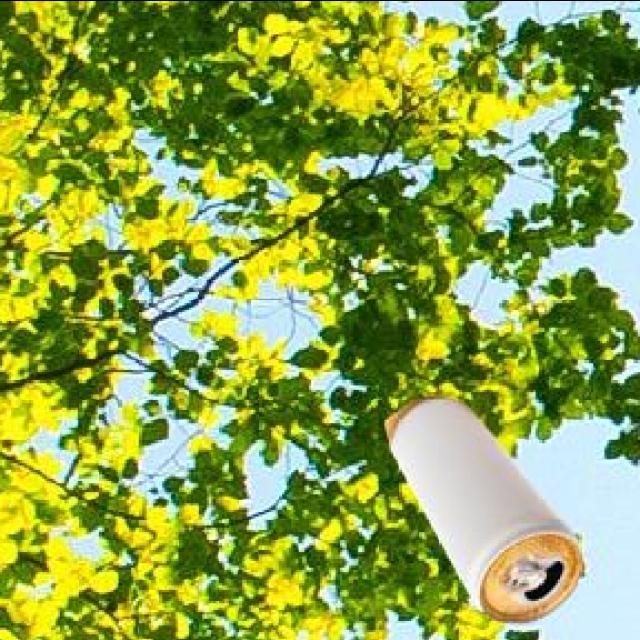logam: (388, 399, 586, 626)
